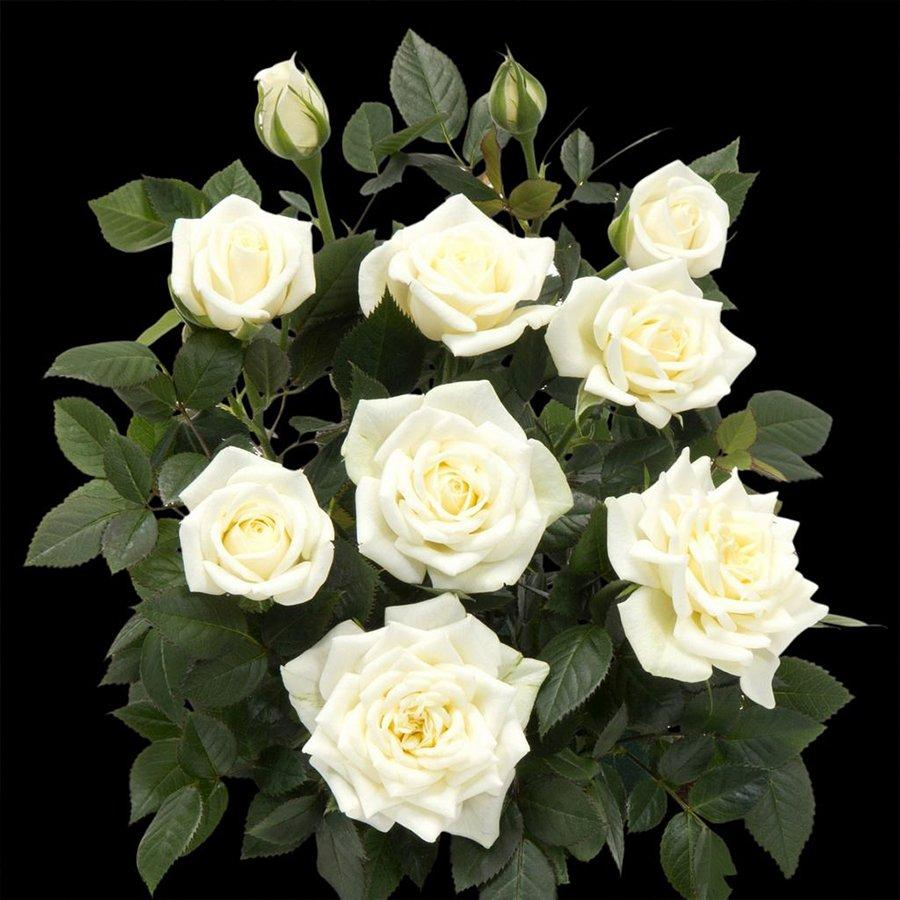Rose: (283, 598, 558, 842), (595, 453, 838, 707), (325, 394, 574, 590), (545, 262, 750, 414), (377, 198, 542, 365), (171, 448, 339, 595), (153, 196, 321, 333), (233, 40, 358, 176), (609, 160, 744, 272)
